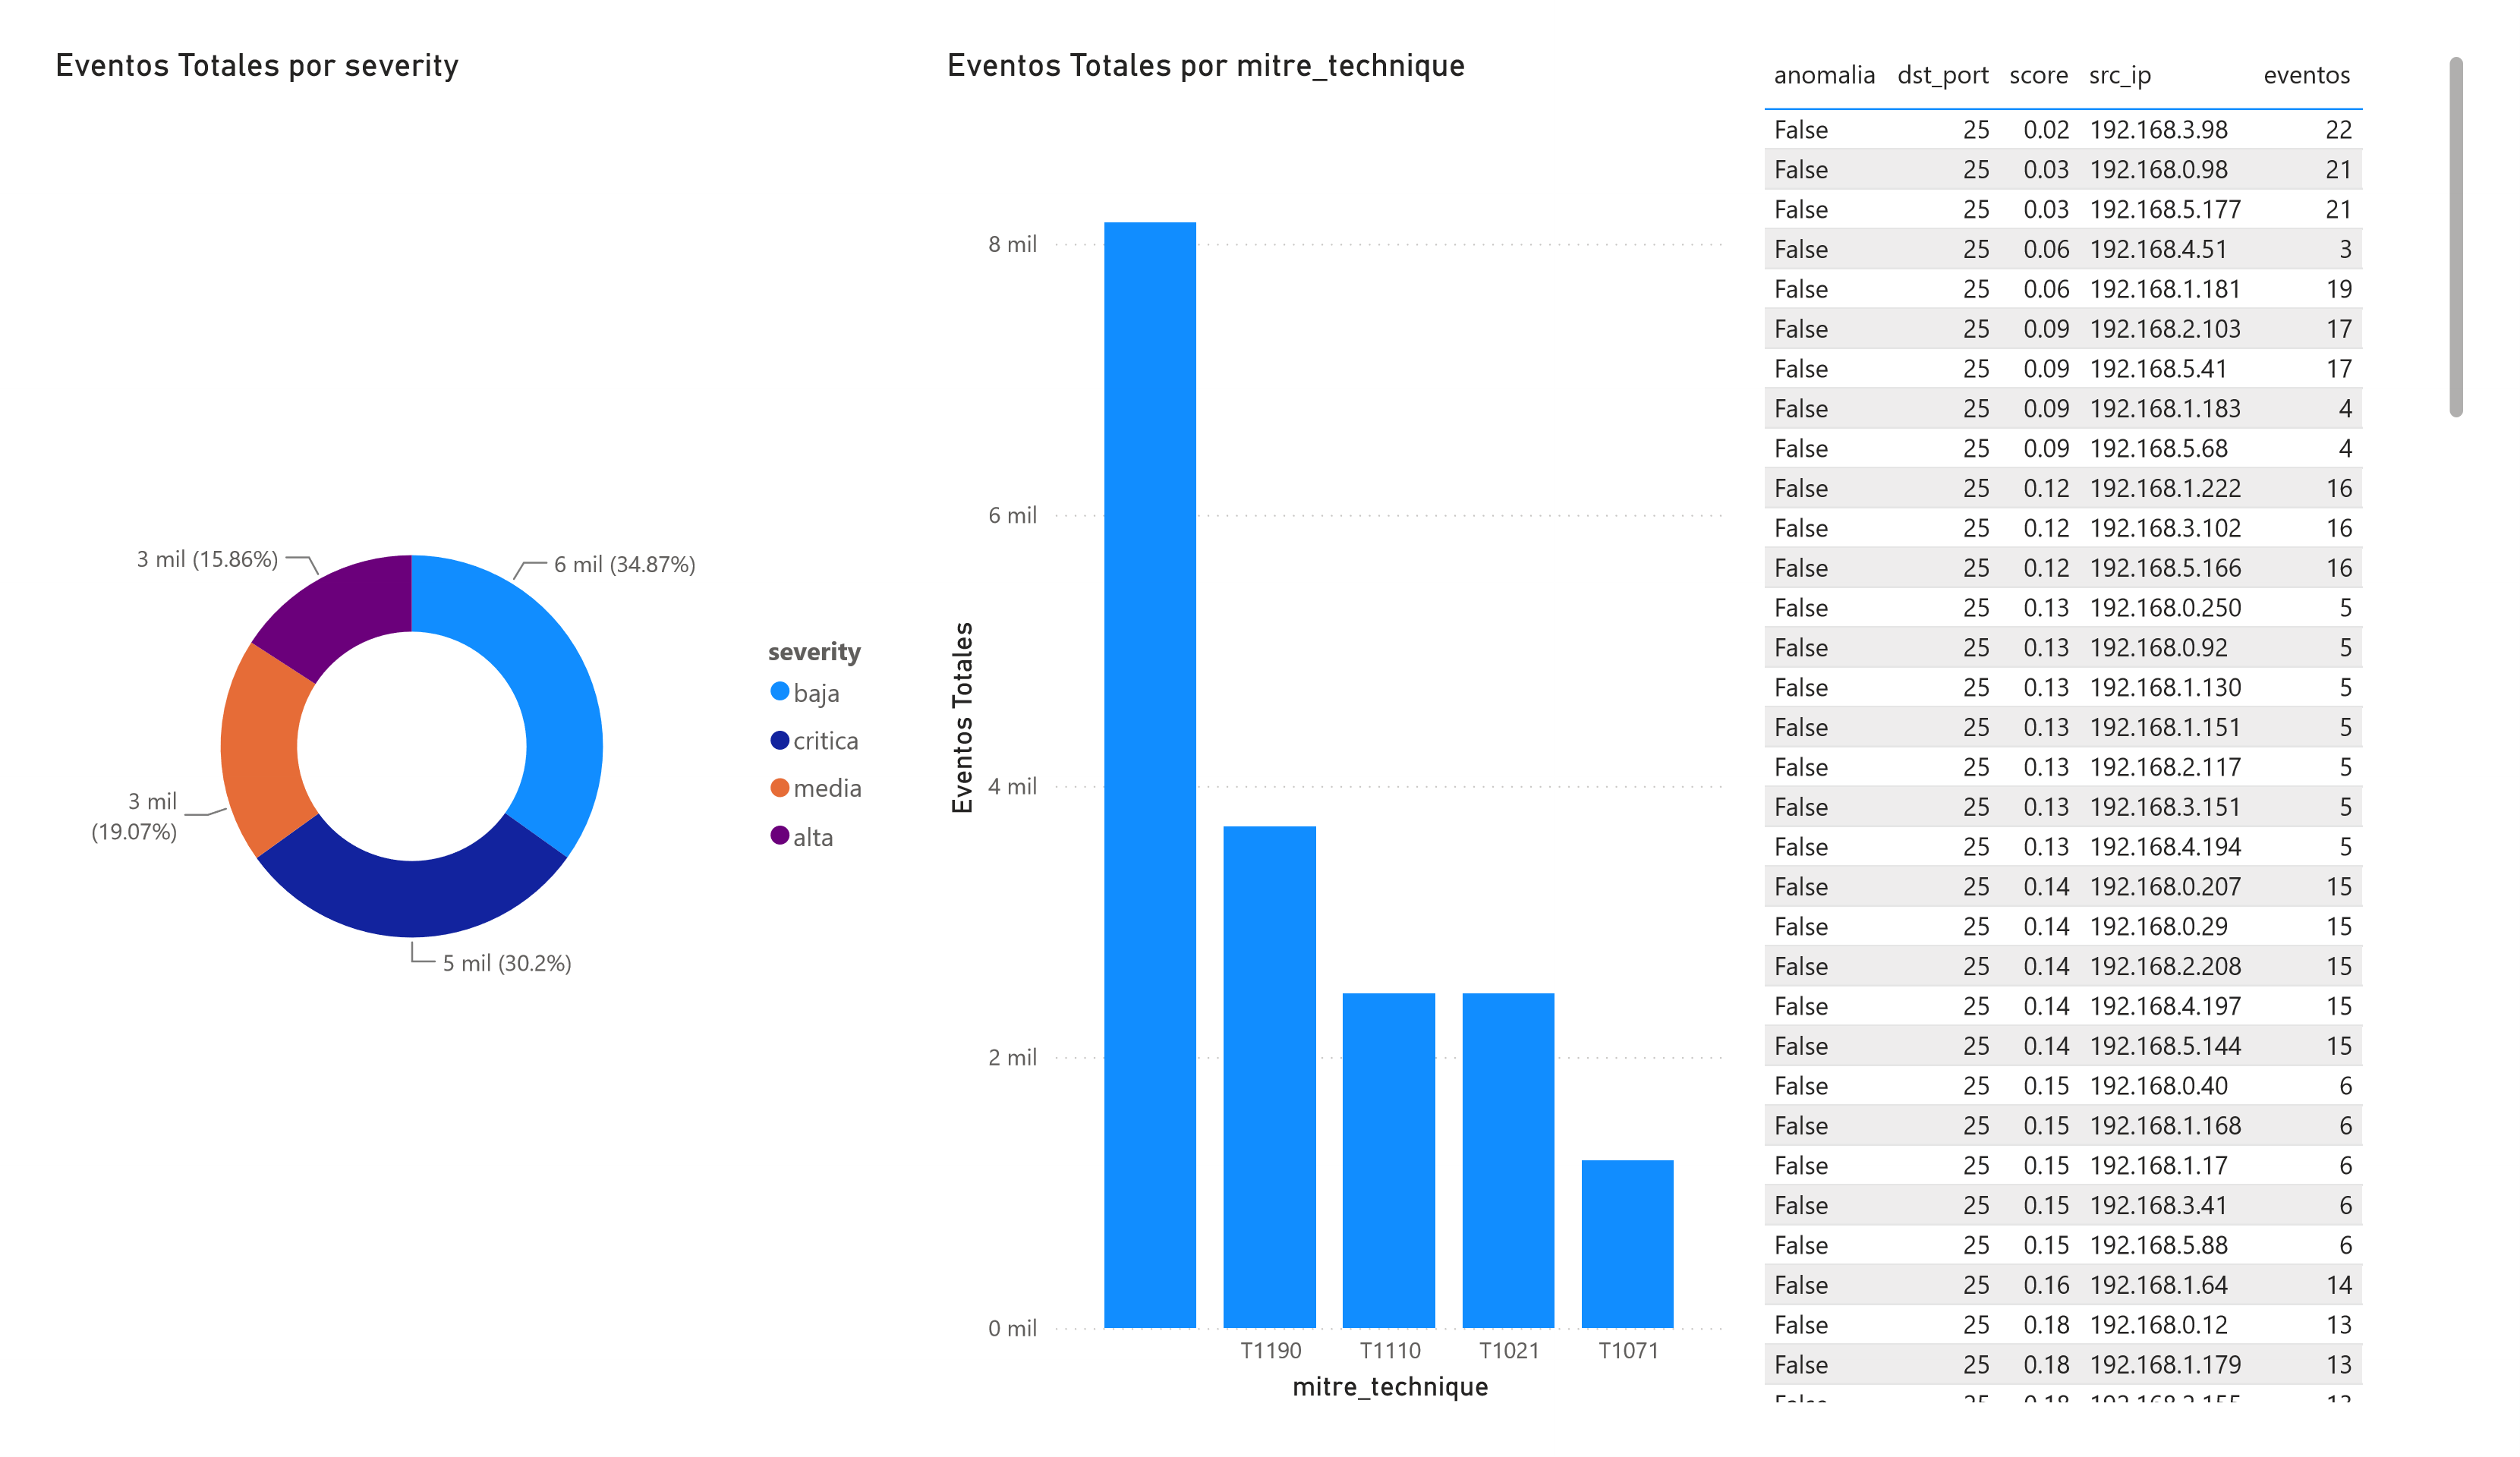

The page's visual inventory and layout, read from the dashboard file:
{"tool":"powerbi","page":{"name":"Incidentes","canvas":[1280,720],"ordinal":2},"visuals":[{"type":"donutChart","fields":{"Y":["powerbi_dataset.Eventos Totales"],"Category":["powerbi_dataset.severity"]},"box":[0,0,453.3,720],"z":0},{"type":"columnChart","fields":{"Category":["powerbi_dataset.mitre_technique"],"Y":["powerbi_dataset.Eventos Totales"]},"box":[470,0,420,720],"z":1},{"type":"tableEx","fields":{"Values":["anomalias_powerbi.anomalia","anomalias_powerbi.dst_port","anomalias_powerbi.score","anomalias_powerbi.src_ip","anomalias_powerbi.eventos"]},"box":[900,0,380,720],"z":2}]}

Visuals, with their boxes in screenshot pixels (x1, y1, x2, y2), scaled from the page's 1280x720 canvas onto the 2520x1457 screenshot:
donutChart - powerbi_dataset.Eventos Totales x powerbi_dataset.severity: crop(0, 0, 893, 1456)
columnChart - powerbi_dataset.mitre_technique x powerbi_dataset.Eventos Totales: crop(925, 0, 1752, 1456)
tableEx - anomalias_powerbi.anomalia x anomalias_powerbi.dst_port: crop(1772, 0, 2519, 1456)
